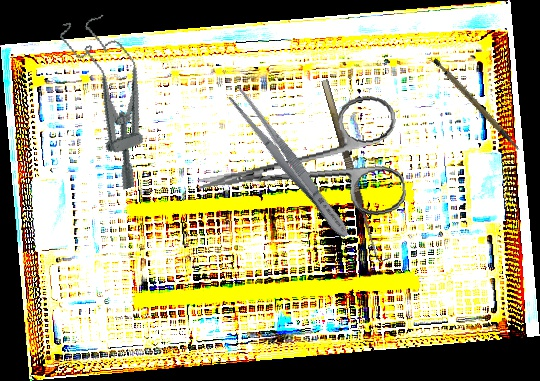Dressing Forceps: (225, 86, 356, 243)
Hook Surgical: (321, 76, 390, 264)
Iris Scissors: (189, 91, 409, 240)
Scalpel Handle: (431, 48, 521, 163)
Speculum: (56, 7, 172, 194)
